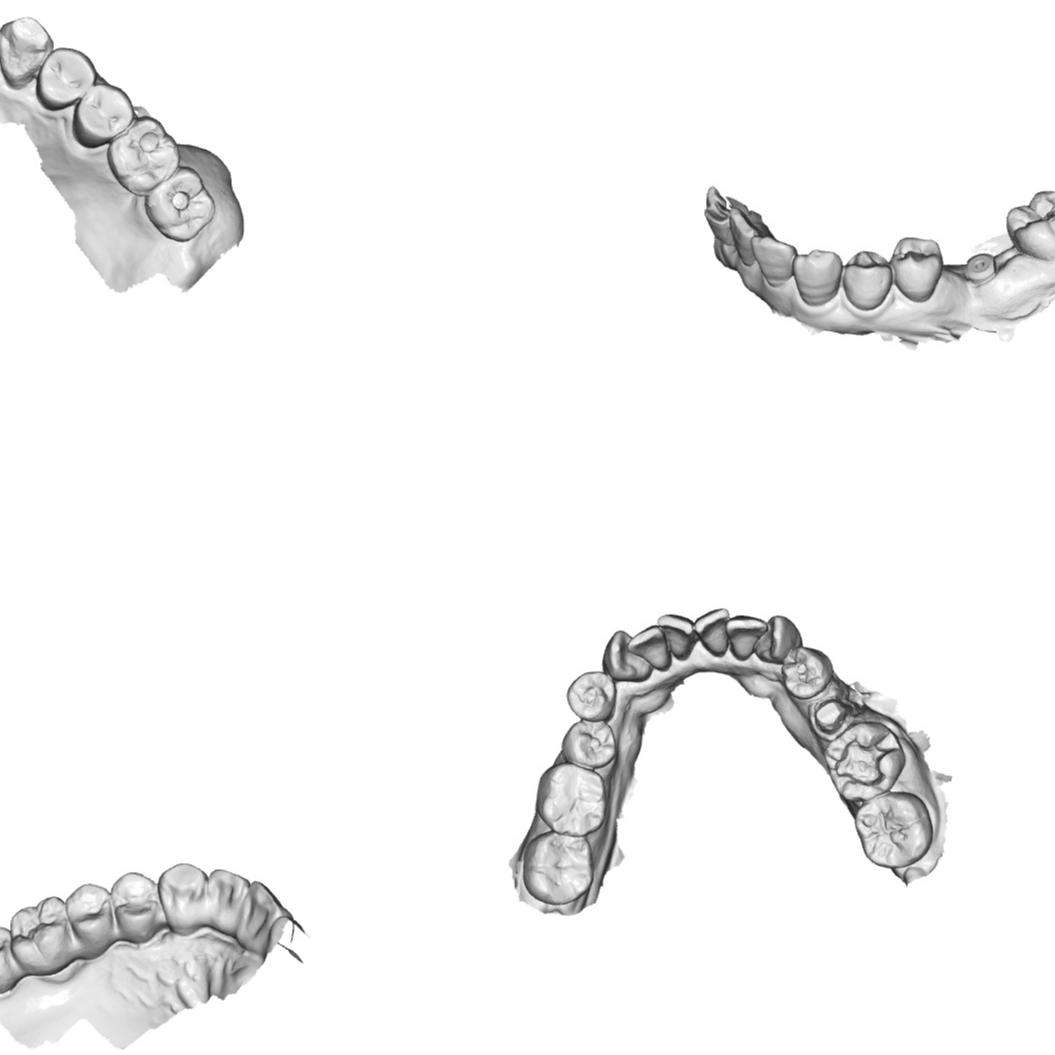canine: (0, 14, 53, 91), (155, 860, 210, 933), (794, 246, 843, 307), (601, 629, 654, 683), (754, 615, 804, 666)
crown: (812, 696, 850, 735)
implant: (961, 250, 1000, 287)
incisor: (235, 877, 281, 954), (205, 866, 249, 932), (624, 623, 673, 671), (752, 234, 797, 282), (726, 613, 768, 662), (694, 606, 730, 658), (657, 612, 696, 660), (727, 210, 762, 261)
inlay: (834, 728, 902, 788)
molar: (852, 789, 935, 870), (106, 115, 182, 198), (8, 894, 77, 979), (143, 164, 216, 243), (535, 762, 609, 837), (521, 832, 595, 906), (1007, 185, 1055, 258), (0, 924, 19, 995)
premolar: (69, 83, 135, 149), (36, 45, 98, 112), (108, 869, 161, 944), (63, 881, 116, 949), (888, 233, 940, 302), (560, 716, 618, 770), (842, 249, 891, 312), (778, 645, 834, 700), (564, 670, 618, 722)
